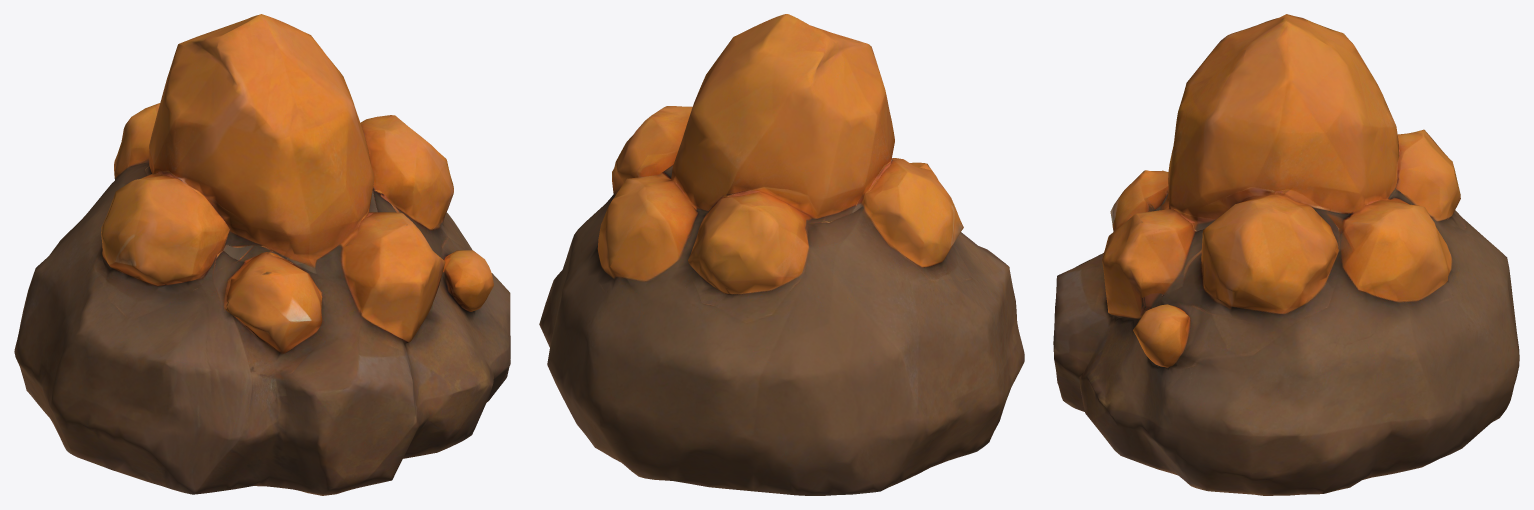
File: copper_ore.glb
3 renders of one model, left to right at view 1: azimuth 30°, elevation 25°; view 2: azimuth 150°, elevation 25°; view 3: azimuth 270°, elevation 25°, orthographic. The views are drawn at different scales.
Size of the model in its own units: 2 by 1.9 by 1.91.
1 material, 1 textured.
